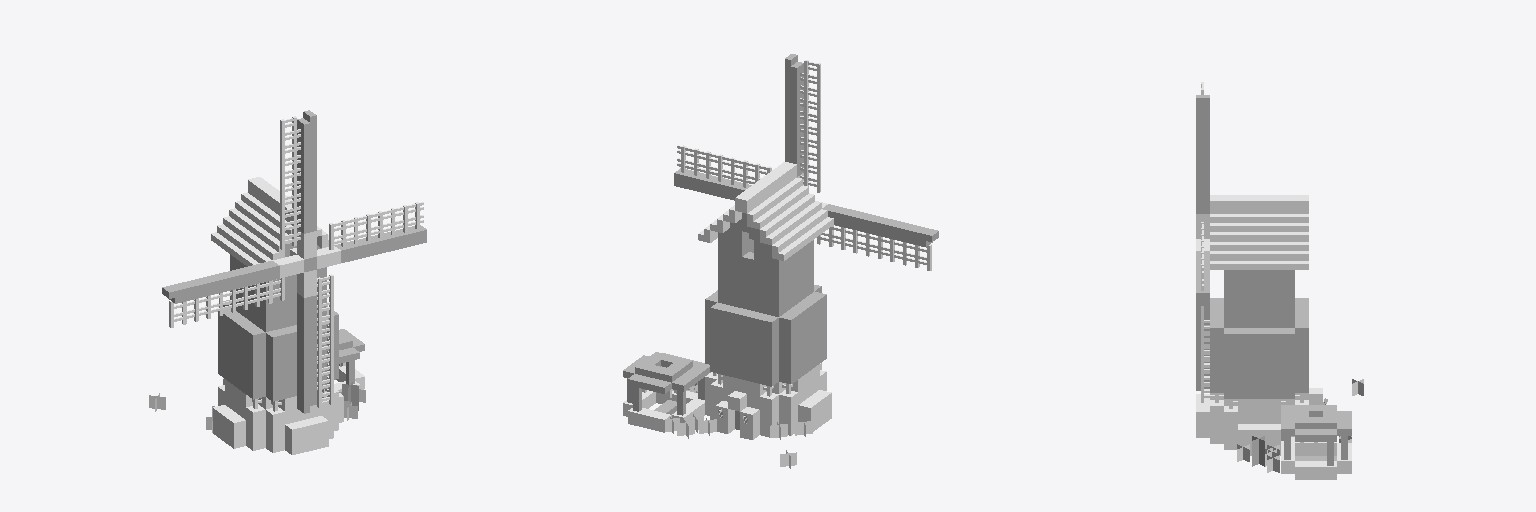
File: WindMill_0.obj
The picture shows the model from 3 angles: view 1: azimuth 30°, elevation 25°; view 2: azimuth 150°, elevation 25°; view 3: azimuth 270°, elevation 25°; orthographic projection.
Parts seen in each view (by area): view 1: __-269_24_638_to_-249_64_649; view 2: __-269_24_638_to_-249_64_649; view 3: __-269_24_638_to_-249_64_649.
Boxes of the visible parts, <box> form: __-269_24_638_to_-249_64_649: <box>149,110,426,454</box>; __-269_24_638_to_-249_64_649: <box>623,54,938,468</box>; __-269_24_638_to_-249_64_649: <box>1196,82,1363,479</box>.
Size of the model in its own units: 21 by 26 by 11.9.